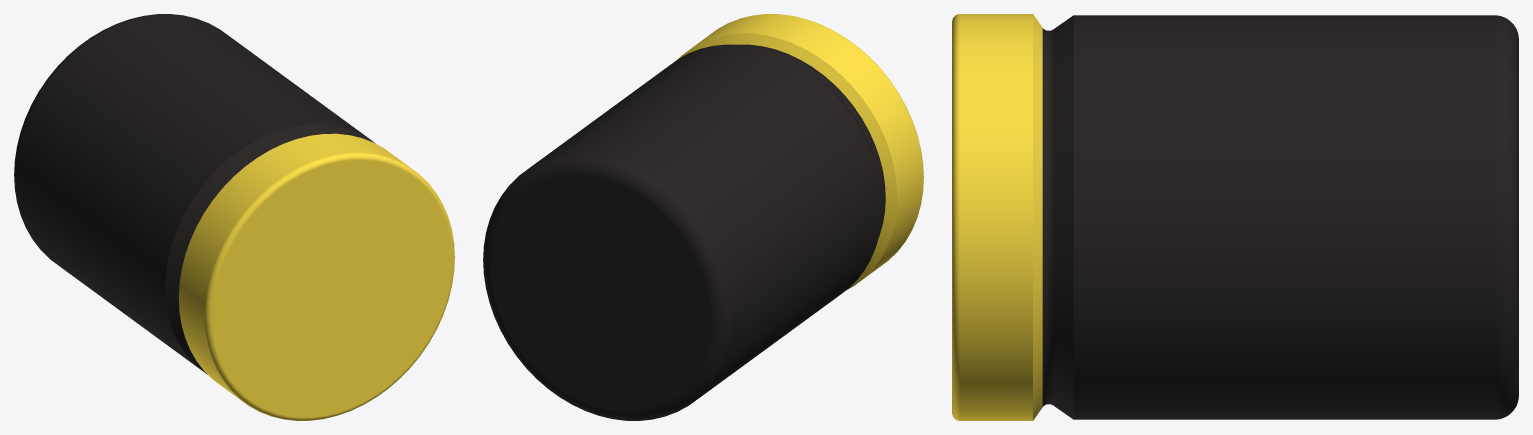
File: savos-shito.glb
The picture shows the model from 3 angles, left to right: view 1: azimuth 30°, elevation 25°; view 2: azimuth 150°, elevation 25°; view 3: azimuth 270°, elevation 25°; orthographic projection. The views are drawn at different scales.
Parts seen in each view (by area): view 1: Part 1; view 2: Part 1; view 3: Part 1.
Part boxes in pixels (<box>): Part 1: <box>14,14,454,420</box>; Part 1: <box>483,14,923,420</box>; Part 1: <box>952,14,1518,420</box>.
Bounding box in the file's own units: 0.0503 × 0.0503 × 0.07.
